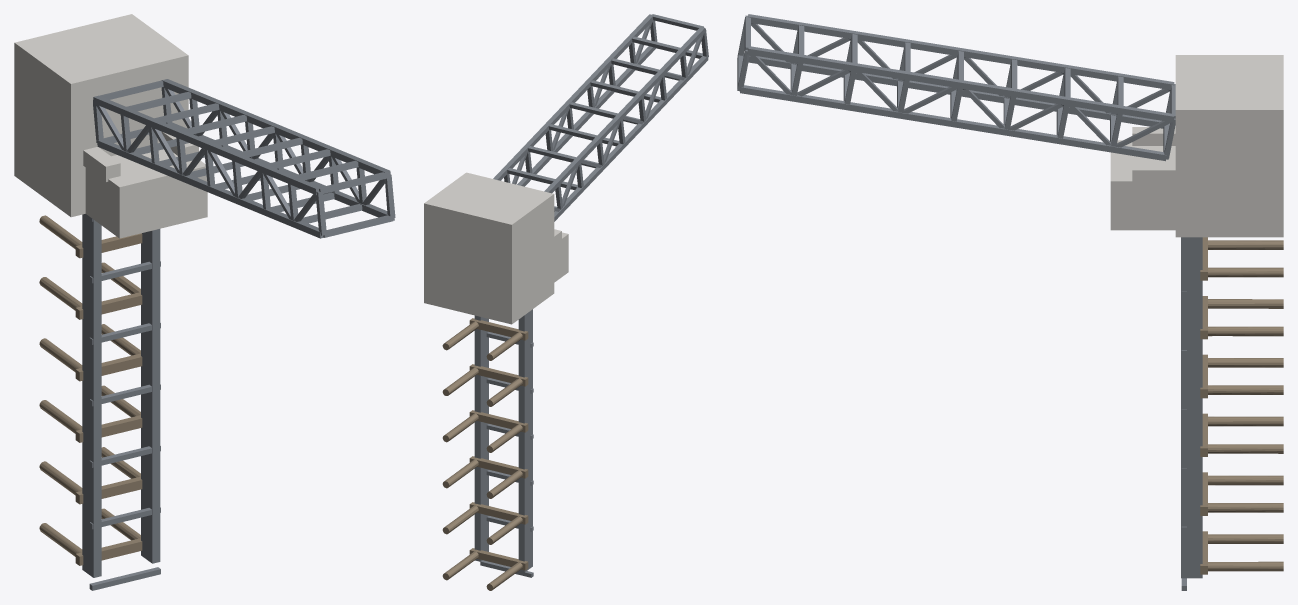
File: r-106-crook-point-bascule-bridge.glb
3 renders of one model, left to right at view 1: azimuth 30°, elevation 25°; view 2: azimuth 150°, elevation 25°; view 3: azimuth 270°, elevation 25°, orthographic. The views are drawn at different scales.
Parts seen in each view (by area): view 1: pier, raised-leaf, approach-girders, trestle-piles; view 2: pier, raised-leaf, approach-girders, trestle-piles; view 3: pier, raised-leaf, trestle-piles, approach-girders.
Part boxes in pixels (x1,y1,x2,y2): pier: [14, 14, 207, 238]; raised-leaf: [93, 79, 395, 238]; approach-girders: [82, 214, 160, 590]; trestle-piles: [39, 215, 142, 565]; pier: [424, 172, 568, 324]; raised-leaf: [493, 14, 708, 221]; approach-girders: [474, 309, 533, 577]; trestle-piles: [442, 318, 528, 590]; pier: [1110, 55, 1283, 237]; raised-leaf: [737, 14, 1175, 161]; trestle-piles: [1200, 237, 1283, 574]; approach-girders: [1181, 237, 1202, 590].
Bounding box in the file's own units: 11999 × 55462 × 50529.
